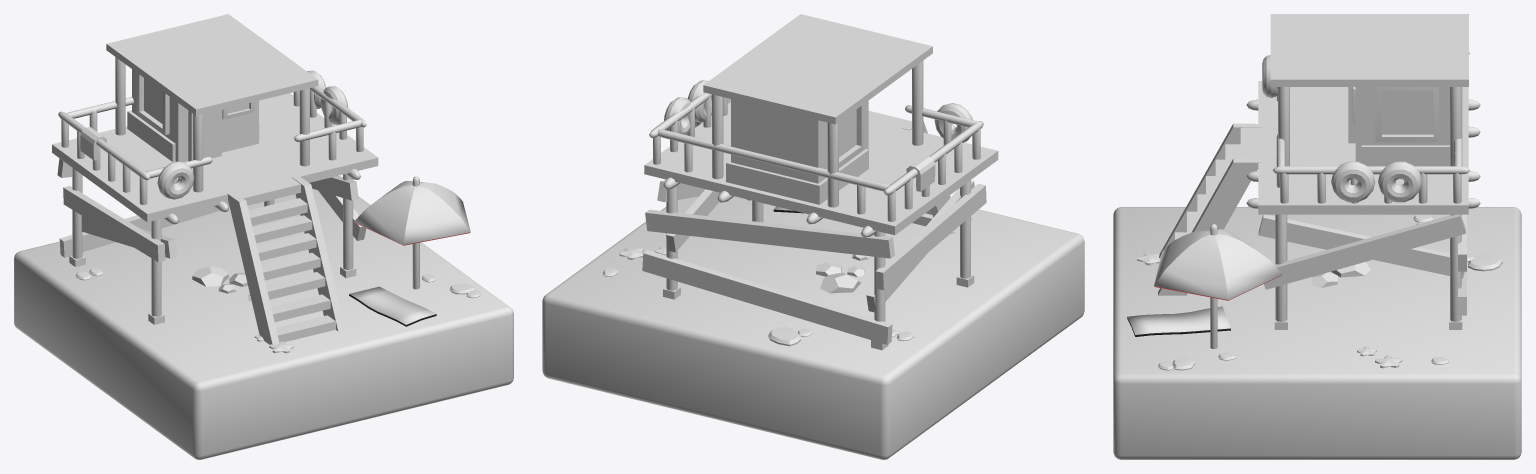
The model's file is Nivel 2,3 (Playa).fbx.
The picture shows the model from 3 angles, left to right: view 1: azimuth 30°, elevation 25°; view 2: azimuth 150°, elevation 25°; view 3: azimuth 270°, elevation 25°; orthographic projection. The views are drawn at different scales.
Visible parts, largest first — view 1: Isla general Playa; view 2: Isla general Playa; view 3: Isla general Playa.
Part boxes in pixels (x1,y1,x2,y2): Isla general Playa: [14, 14, 513, 459]; Isla general Playa: [542, 14, 1084, 459]; Isla general Playa: [1113, 14, 1521, 459].
Bounding box in the file's own units: 1410 × 1197 × 1410.
